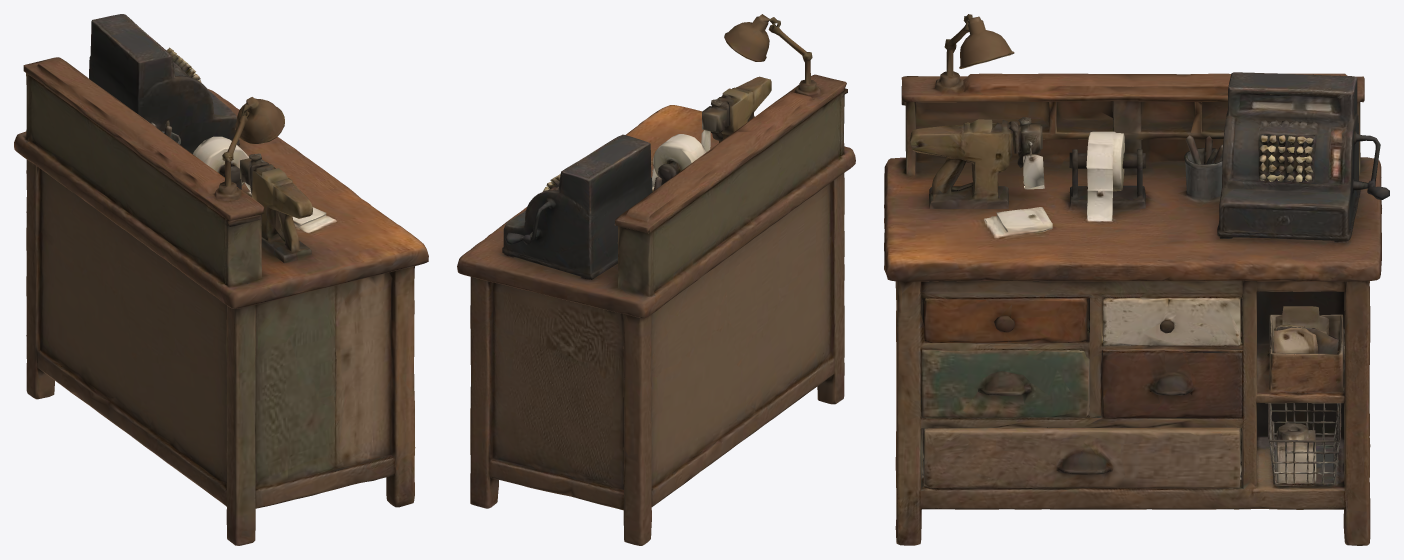
File: ts_pricestation.glb
3 renders of one model, left to right at view 1: azimuth 30°, elevation 25°; view 2: azimuth 150°, elevation 25°; view 3: azimuth 270°, elevation 25°, orthographic. The views are drawn at different scales.
Parts seen in each view (by area): view 1: tripo_node_e3ead8f5-7b14-44a0-ae22-3fe0818f20a2; view 2: tripo_node_e3ead8f5-7b14-44a0-ae22-3fe0818f20a2; view 3: tripo_node_e3ead8f5-7b14-44a0-ae22-3fe0818f20a2.
Boxes of the visible parts, left/top/right/bottom form: tripo_node_e3ead8f5-7b14-44a0-ae22-3fe0818f20a2: left=14, top=14, right=428, bottom=545; tripo_node_e3ead8f5-7b14-44a0-ae22-3fe0818f20a2: left=457, top=14, right=855, bottom=545; tripo_node_e3ead8f5-7b14-44a0-ae22-3fe0818f20a2: left=884, top=14, right=1389, bottom=545.
Bounding box in the file's own units: 0.5144 × 1 × 0.9962.
Materials: 1 (1 with a texture image).
